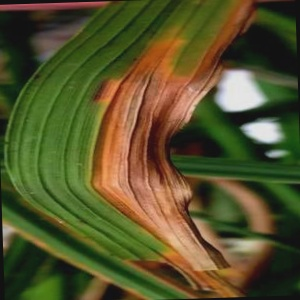Leaf_Blast: (33, 4, 190, 262)
